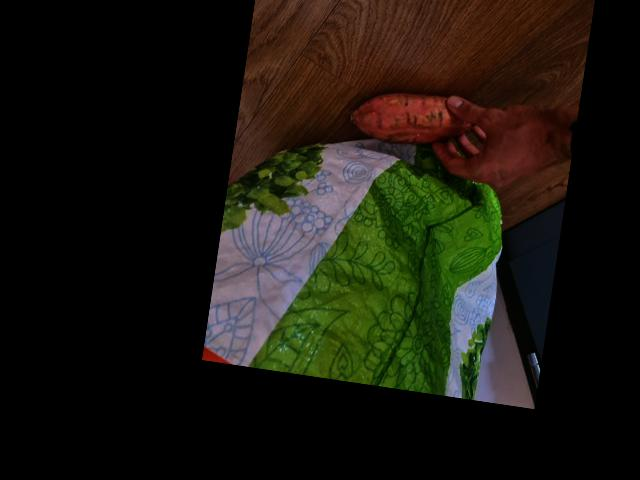sweet_potato: (342, 78, 478, 158)
